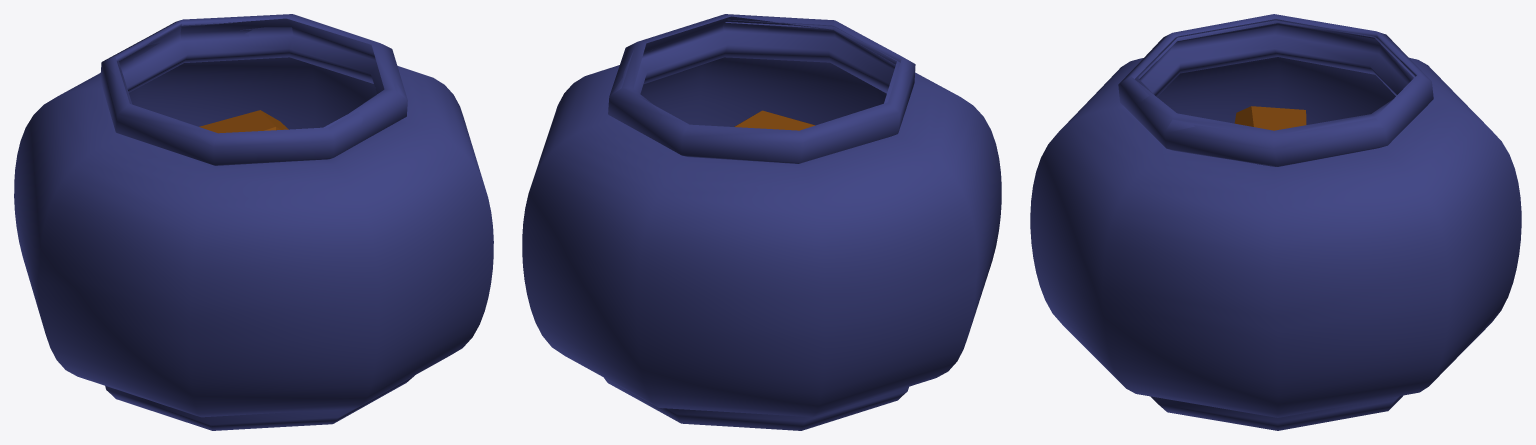
File: SketchFab.obj
The picture shows the model from 3 angles, left to right: view 1: azimuth 30°, elevation 25°; view 2: azimuth 150°, elevation 25°; view 3: azimuth 270°, elevation 25°; orthographic projection.
Visible parts, largest first — view 1: revolvedSurface1, polySurface2; view 2: revolvedSurface1, polySurface2; view 3: revolvedSurface1, polySurface2.
Boxes of the visible parts, x1,y1,x2,y2 form: revolvedSurface1: (14,14,493,430); polySurface2: (199,110,288,133); revolvedSurface1: (522,14,1001,430); polySurface2: (734,110,815,130); revolvedSurface1: (1030,14,1521,430); polySurface2: (1234,106,1306,130).
Bounding box in the file's own units: 17.93 × 11.76 × 17.93.
